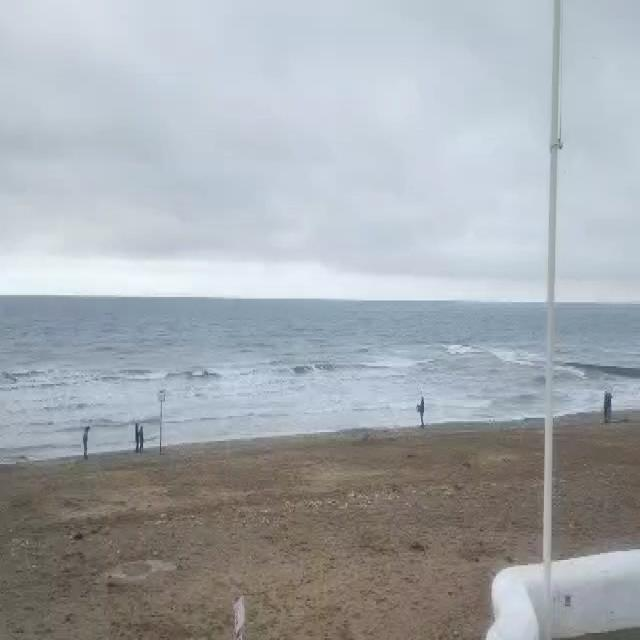person: (414, 393, 430, 432), (81, 421, 92, 462), (131, 421, 140, 457), (137, 427, 147, 452)
